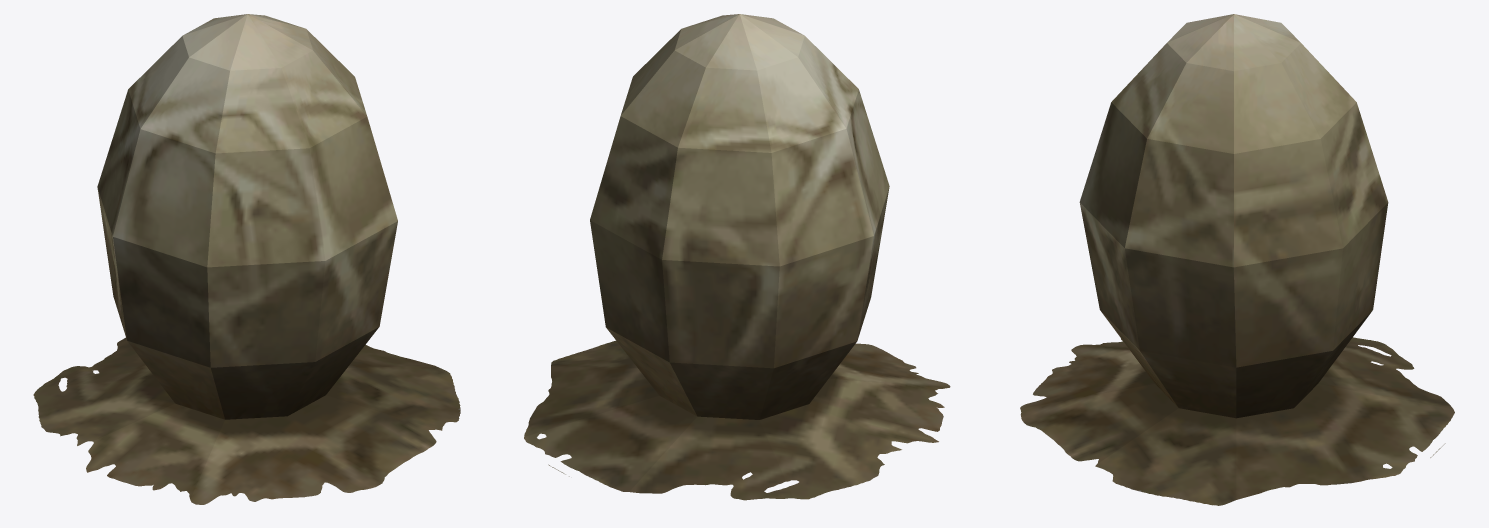
Rendered from spider_egg_06.fbx.
3 renders of one model, left to right at view 1: azimuth 30°, elevation 25°; view 2: azimuth 150°, elevation 25°; view 3: azimuth 270°, elevation 25°, orthographic.
Visible parts, largest first — view 1: obj0.346; view 2: obj0.346; view 3: obj0.346.
Boxes of the visible parts, x1,y1,x2,y2 form: obj0.346: (33,14,460,504); obj0.346: (524,14,950,500); obj0.346: (1020,14,1454,505).
Size of the model in its own units: 1.39 by 1.29 by 1.39.
